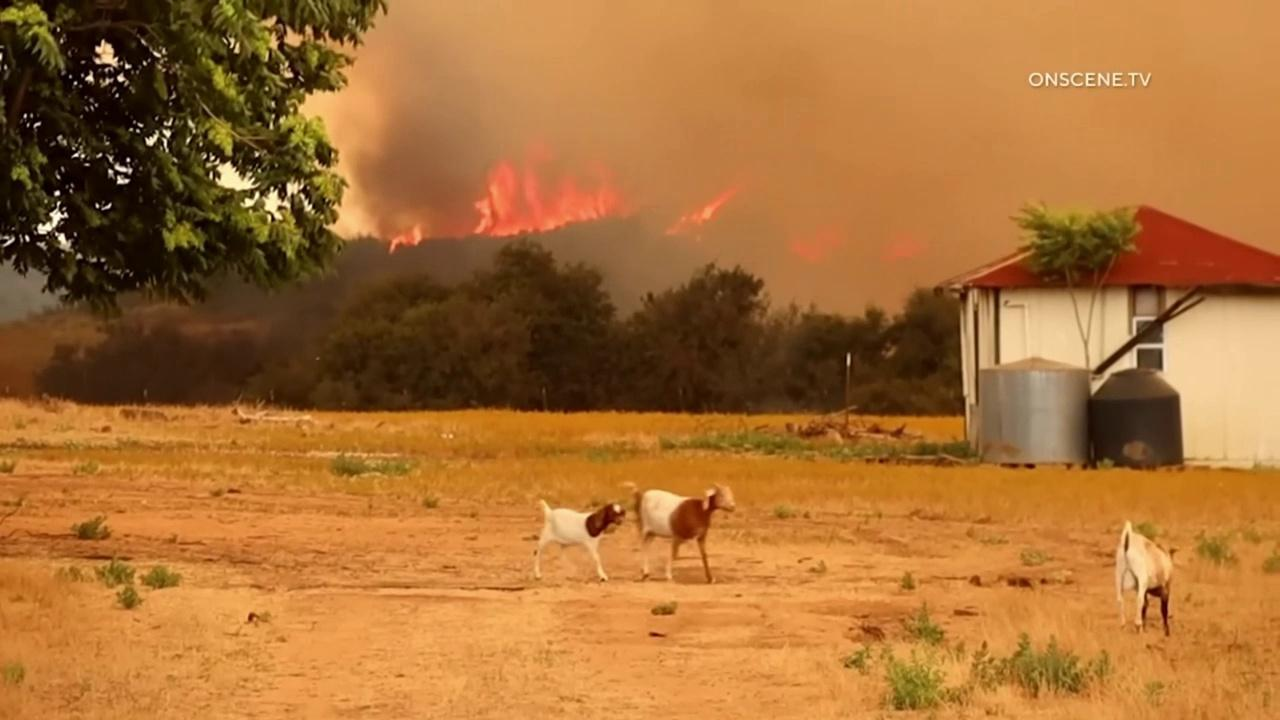fire: (471, 138, 640, 237), (666, 186, 739, 236), (789, 223, 840, 263), (878, 231, 922, 261), (389, 222, 423, 255)
smoke: (313, 0, 1280, 328)
